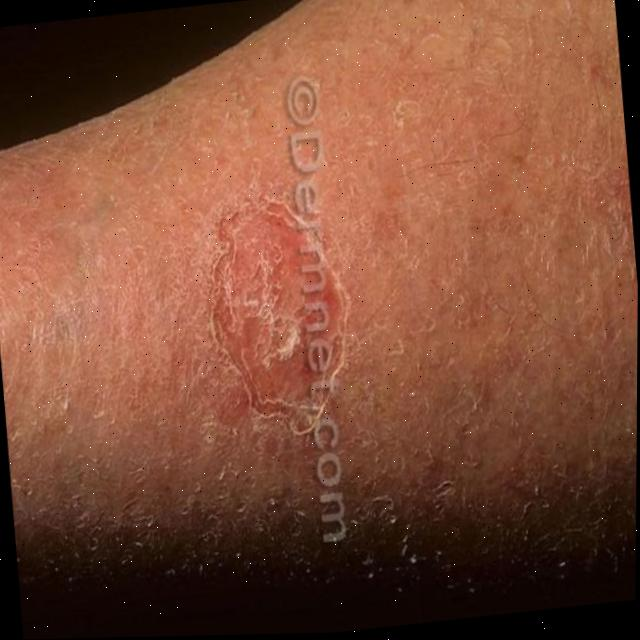Eczema: (176, 182, 381, 434)
